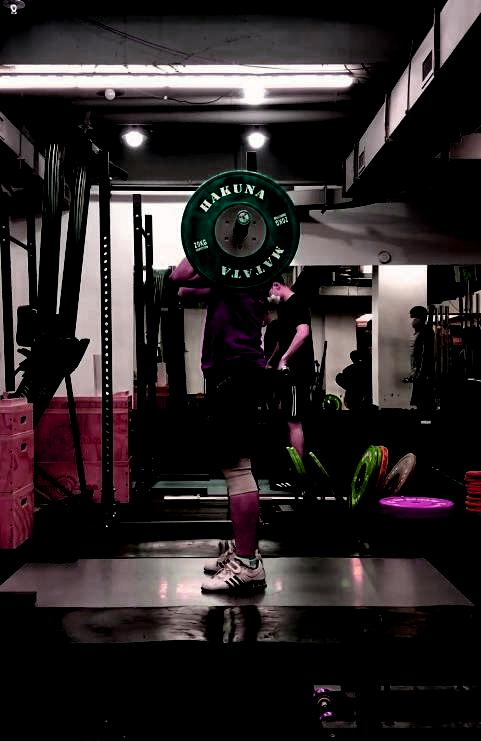Barbell: (235, 209, 254, 228)
